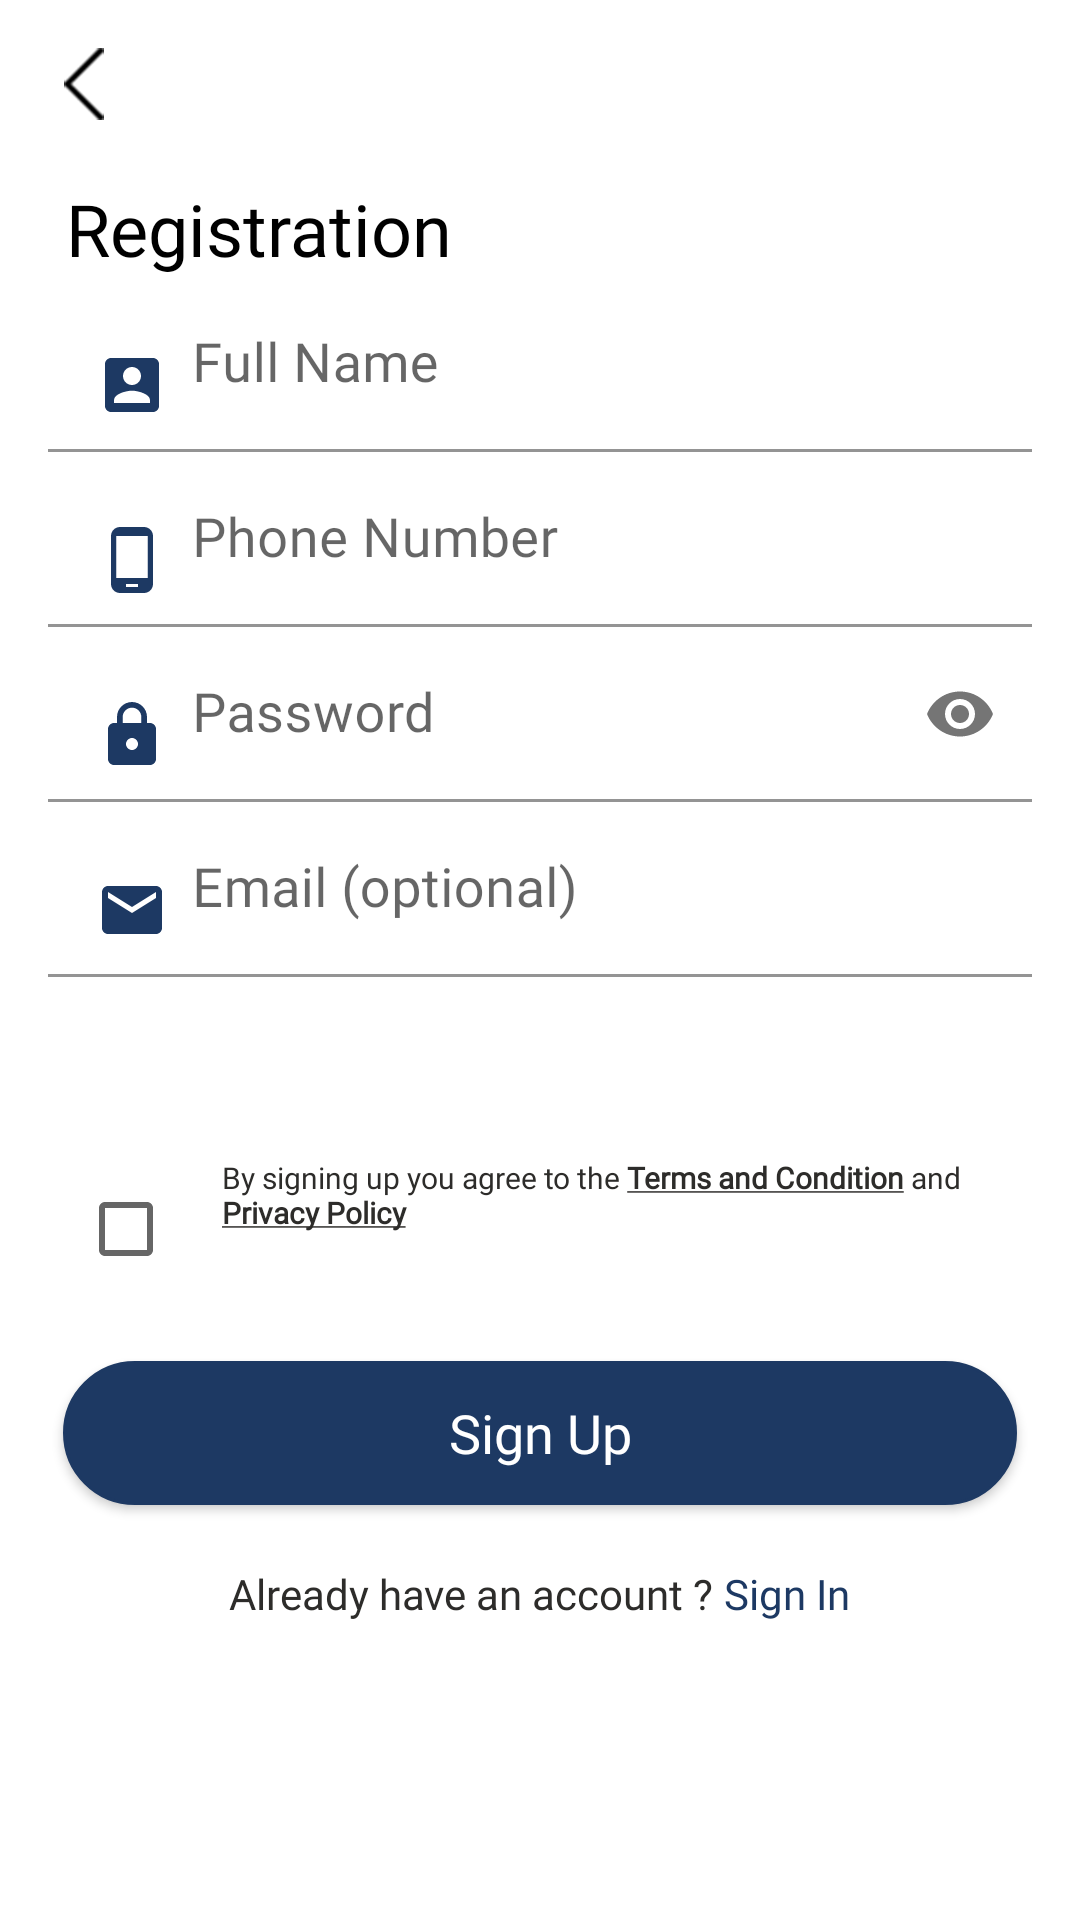

Icons on this 1080x1920 Android screen, each with the point to tap as (x=x, y=y):
back arrow: (x=84, y=84)
